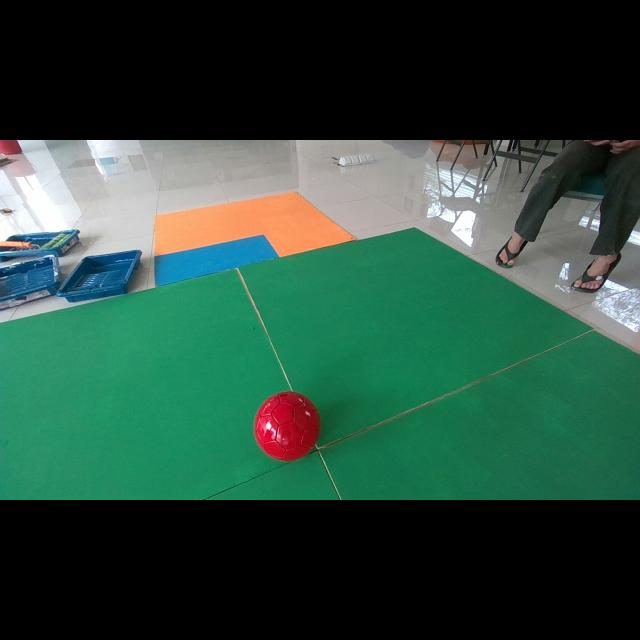R: (254, 391, 321, 461)
